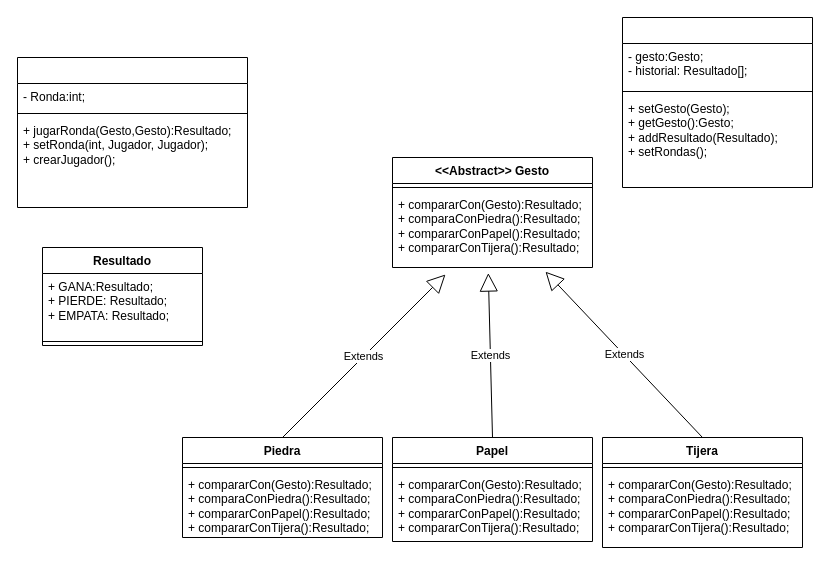
The diagram is 830 pixels wide and 568 high, and some of its shapes have lost their labels. Here are the shapes that lost their labels. From the top down, the box of each, then its label:
(622, 16, 812, 188): Jugador
(16, 56, 248, 208): Juego
